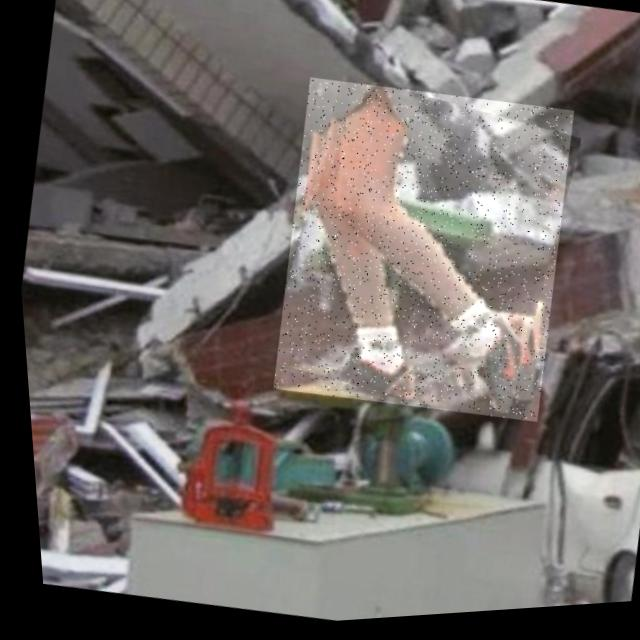Person in Rubble: (249, 68, 590, 443)
